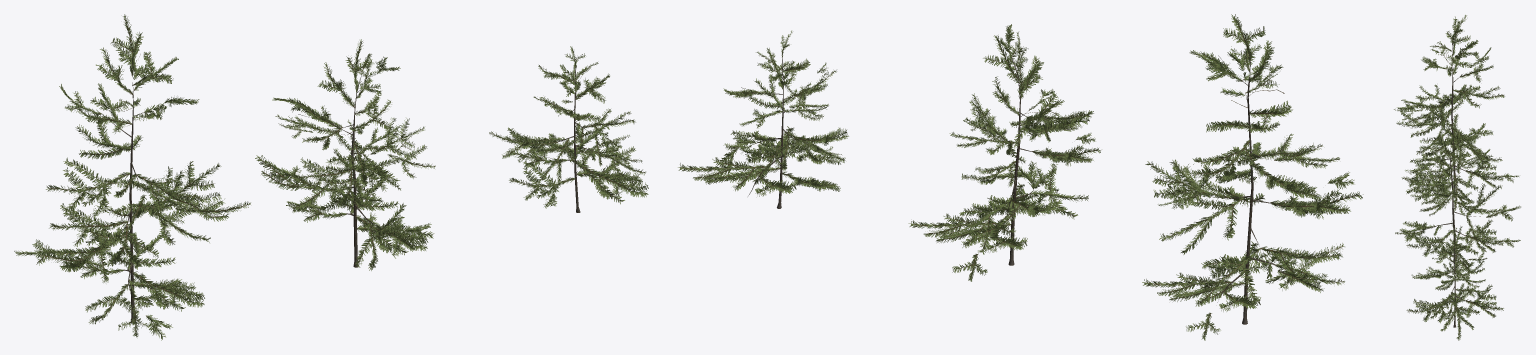
Rendered from fir_sapling.glb.
3 renders of one model, left to right at view 1: azimuth 30°, elevation 25°; view 2: azimuth 150°, elevation 25°; view 3: azimuth 270°, elevation 25°, orthographic. The views are drawn at different scales.
Visible parts, largest first — view 1: fir_sapling_a, fir_sapling_b, fir_sapling_c; view 2: fir_sapling_a, fir_sapling_b, fir_sapling_c; view 3: fir_sapling_a, fir_sapling_b, fir_sapling_c.
Part boxes in pixels (box(x1,y1,x2,y2)): fir_sapling_a: box(14, 14, 250, 340); fir_sapling_b: box(255, 39, 435, 270); fir_sapling_c: box(489, 46, 648, 212); fir_sapling_a: box(1142, 14, 1363, 340); fir_sapling_b: box(908, 24, 1100, 281); fir_sapling_c: box(678, 30, 848, 208); fir_sapling_a: box(1394, 15, 1518, 211); fir_sapling_b: box(1395, 129, 1520, 276); fir_sapling_c: box(1406, 221, 1503, 340).
Size of the model in its own units: 2.74 by 1.3 by 0.8259.
2 materials, 2 textured.
